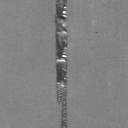slag inclusion: (54, 0, 69, 128)
